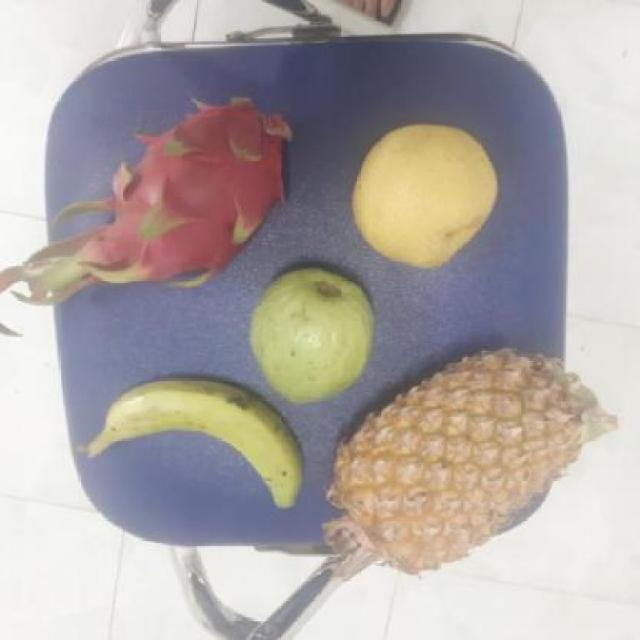banana: (103, 375, 311, 507)
dragon fruit: (66, 66, 311, 283)
guava: (248, 269, 379, 402)
pear: (348, 123, 500, 271)
pineapple: (338, 343, 593, 566)
